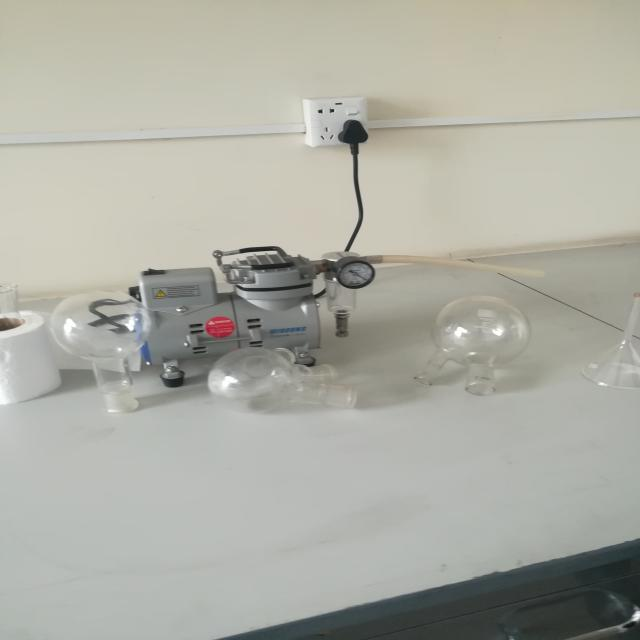Funnel: (570, 282, 640, 424)
Round_Bottom_Flask_Borosilicate_Glass_1_Neck: (24, 266, 172, 421)
Round_Bottom_Flask_Borosilicate_Glass_2_Neck: (409, 279, 538, 429)
Round_Bottom_Flask_Borosilicate_Glass_3_Neck: (194, 328, 383, 431)
